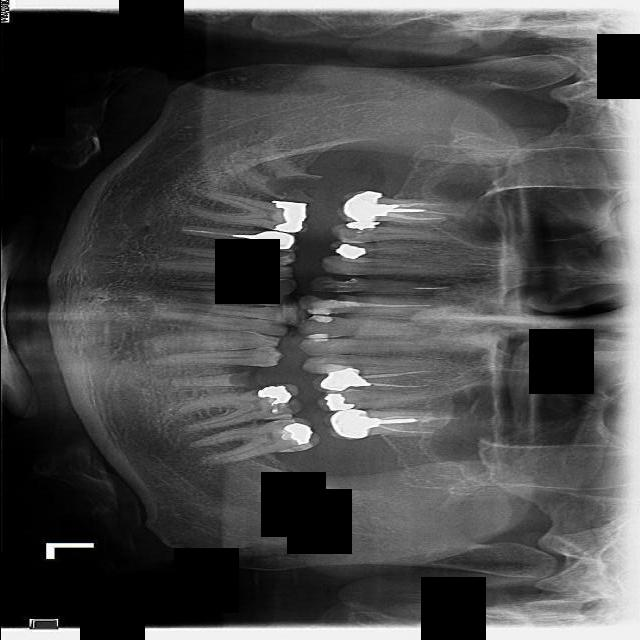71: (351, 198, 426, 219), (233, 229, 284, 246), (380, 418, 421, 425)
72: (226, 131, 320, 217), (171, 372, 248, 396)
74: (326, 301, 432, 308), (377, 425, 434, 437), (387, 212, 446, 223), (359, 372, 433, 379), (365, 381, 428, 389), (394, 201, 447, 208), (185, 230, 237, 237), (414, 416, 456, 423), (421, 210, 465, 216), (414, 287, 450, 290)
NucleOSS Implant: (257, 379, 294, 410), (269, 202, 306, 233), (279, 417, 314, 447), (321, 393, 356, 414), (335, 242, 367, 261), (354, 415, 382, 433), (340, 373, 373, 388), (344, 221, 380, 230)
Sterngold Implant: (266, 172, 321, 204), (268, 399, 302, 423), (230, 372, 254, 387), (325, 274, 355, 284), (266, 247, 291, 259), (310, 293, 342, 300), (321, 286, 338, 293), (288, 446, 305, 451), (271, 421, 286, 426)
Straumann Implant: (301, 357, 349, 375), (303, 305, 332, 316), (307, 315, 332, 323), (302, 333, 327, 339), (308, 340, 330, 343)
Zimmer Implant: (335, 181, 383, 230), (322, 405, 372, 444), (311, 368, 362, 393), (266, 231, 295, 250)
